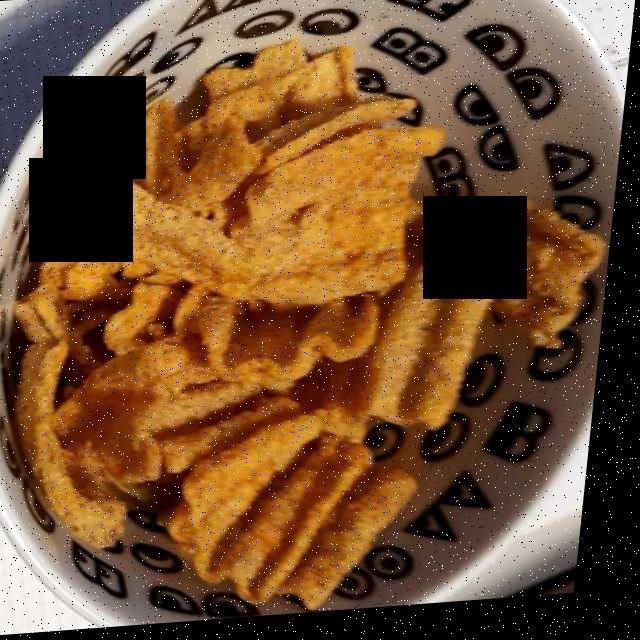chips: (26, 56, 596, 598)
